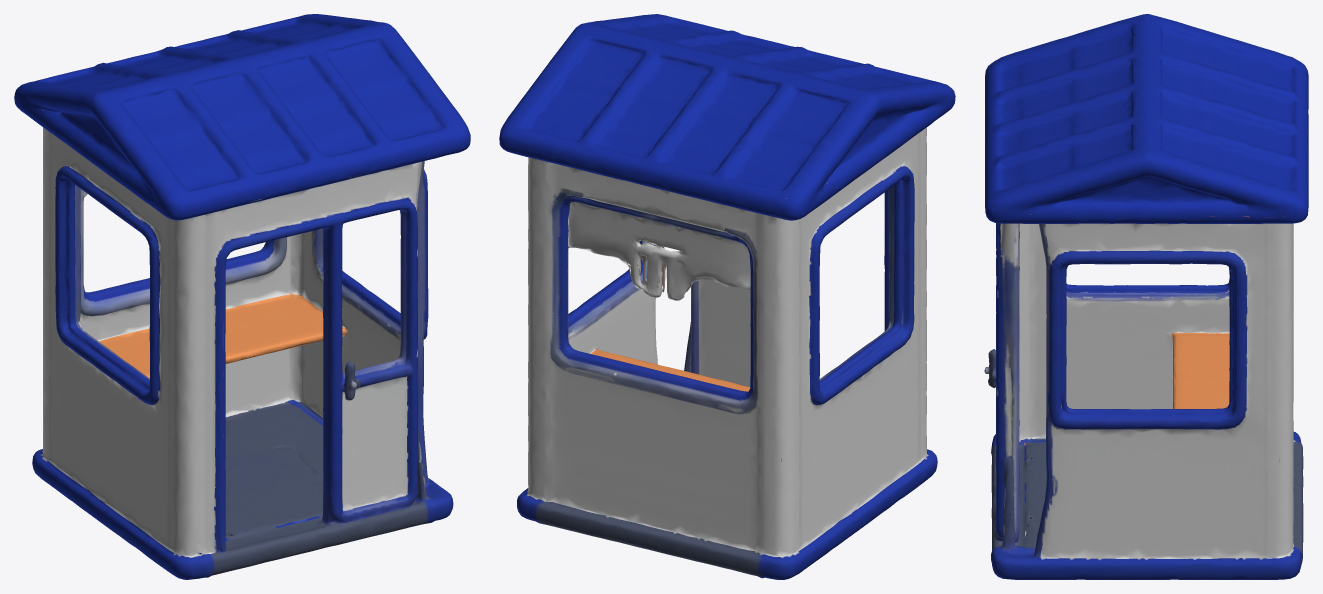
Rendered from garita.glb.
3 renders of one model, left to right at view 1: azimuth 30°, elevation 25°; view 2: azimuth 150°, elevation 25°; view 3: azimuth 270°, elevation 25°, orthographic.
Size of the model in its own units: 0.7326 by 1 by 0.6802.
Materials: 1 (1 with a texture image).
